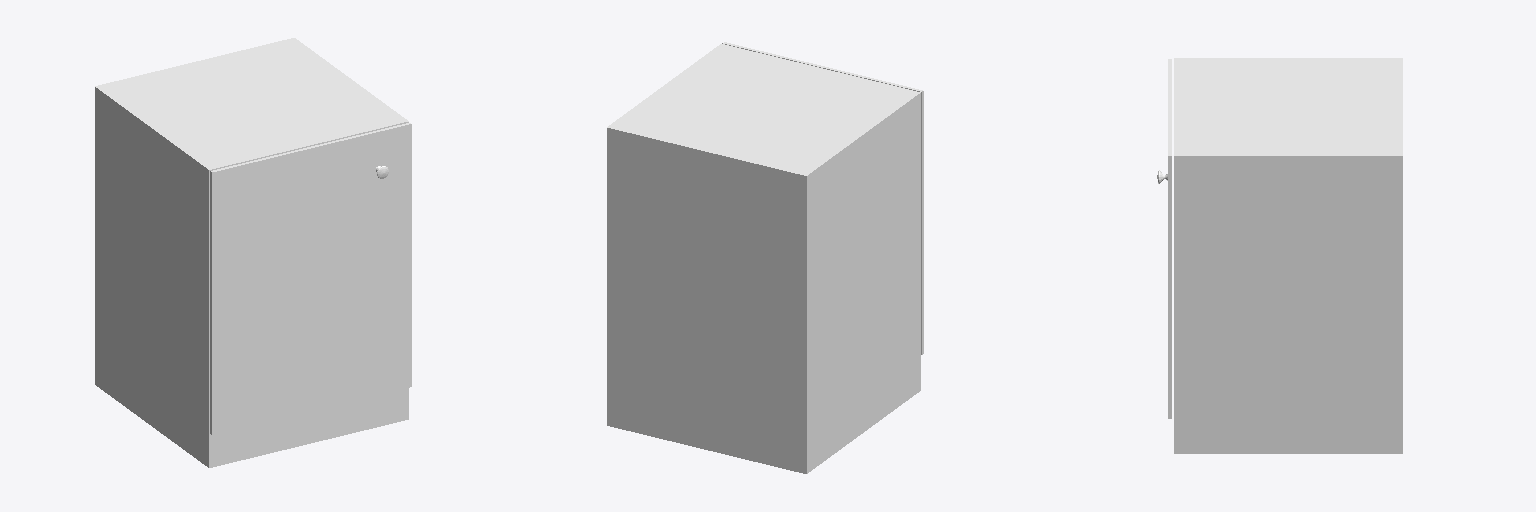
The model's file is cabinet.obj.
3 renders of one model, left to right at view 1: azimuth 30°, elevation 25°; view 2: azimuth 150°, elevation 25°; view 3: azimuth 270°, elevation 25°, orthographic.
Visible parts, largest first — view 1: Corps_3, Porte_1; view 2: Corps_3, Porte_1; view 3: Corps_3, Porte_1.
Part boxes in pixels (x1,y1,x2,y2): Corps_3: (95, 38, 408, 467); Porte_1: (210, 123, 411, 435); Corps_3: (607, 44, 920, 473); Porte_1: (722, 42, 923, 354); Corps_3: (1174, 58, 1402, 453); Porte_1: (1168, 59, 1171, 418).
Size of the model in its own units: 59.69 by 85.09 by 63.5.